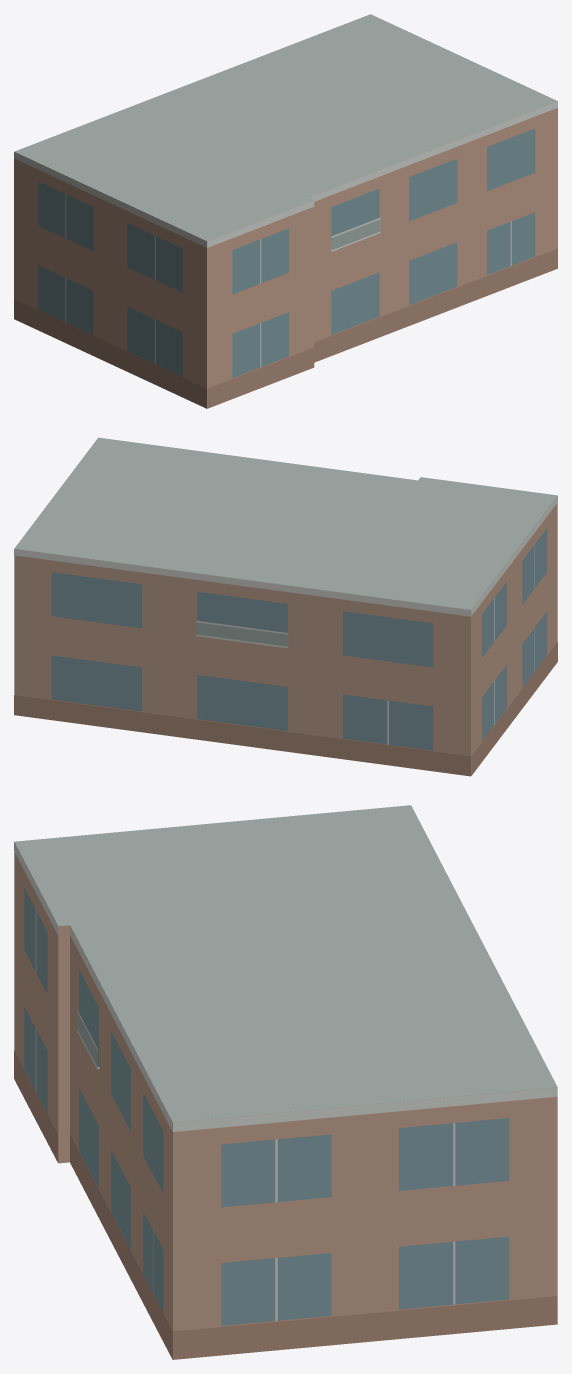
File: survey-upis-32701141.glb
The picture shows the model from 3 angles, top to bottom: view 1: azimuth 30°, elevation 25°; view 2: azimuth 150°, elevation 25°; view 3: azimuth 270°, elevation 25°; orthographic projection. The views are drawn at different scales.
Parts seen in each view (by area): view 1: survey-upis-32701141.tmp; view 2: survey-upis-32701141.tmp; view 3: survey-upis-32701141.tmp.
Boxes of the visible parts, x1,y1,x2,y2 form: survey-upis-32701141.tmp: (14,14,557,408); survey-upis-32701141.tmp: (14,437,557,776); survey-upis-32701141.tmp: (14,805,557,1359).
Size of the model in its own units: 17.53 by 6.1 by 12.68.
